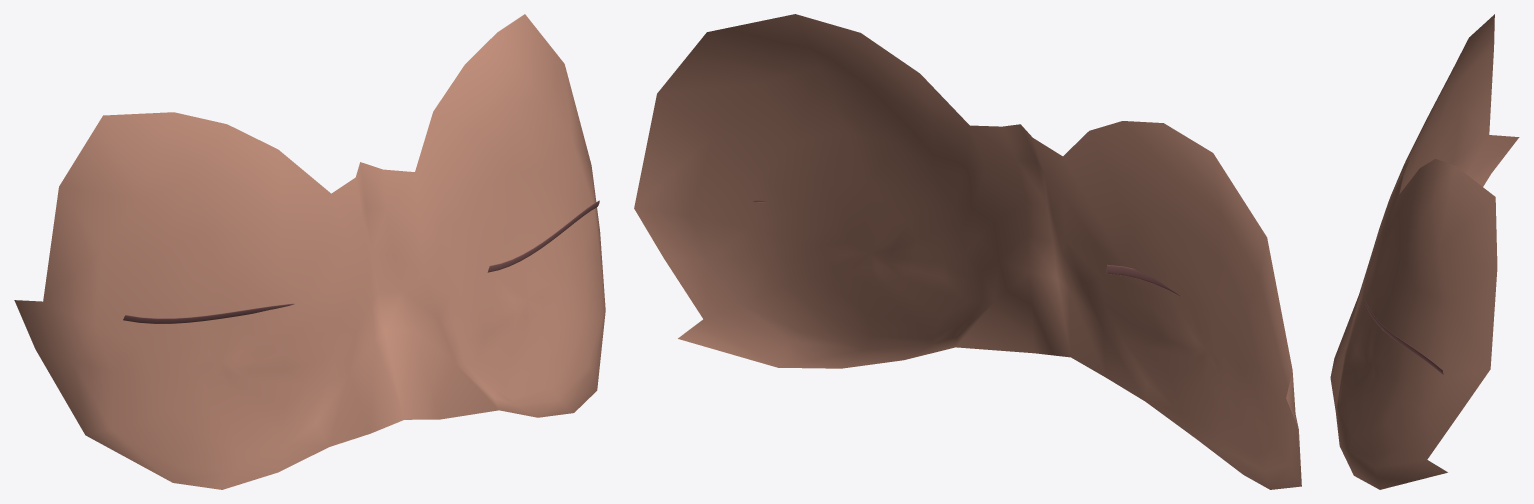
The model's file is Chest_BILATERAL.fbx.
The picture shows the model from 3 angles, left to right: view 1: azimuth 30°, elevation 25°; view 2: azimuth 150°, elevation 25°; view 3: azimuth 270°, elevation 25°; orthographic projection. The views are drawn at different scales.
Visible parts, largest first — view 1: barefoot001.001, Curva_Bezier.002, Curva_Bezier.001; view 2: barefoot001.001; view 3: barefoot001.001, Curva_Bezier.001.
Boxes of the visible parts, x1,y1,x2,y2 form: barefoot001.001: (14,14,605,489); Curva_Bezier.002: (123,303,294,323); Curva_Bezier.001: (487,200,599,272); barefoot001.001: (634,14,1301,489); barefoot001.001: (1330,14,1519,489); Curva_Bezier.001: (1364,300,1443,374).
Bounding box in the file's own units: 2036 × 1190 × 676.
